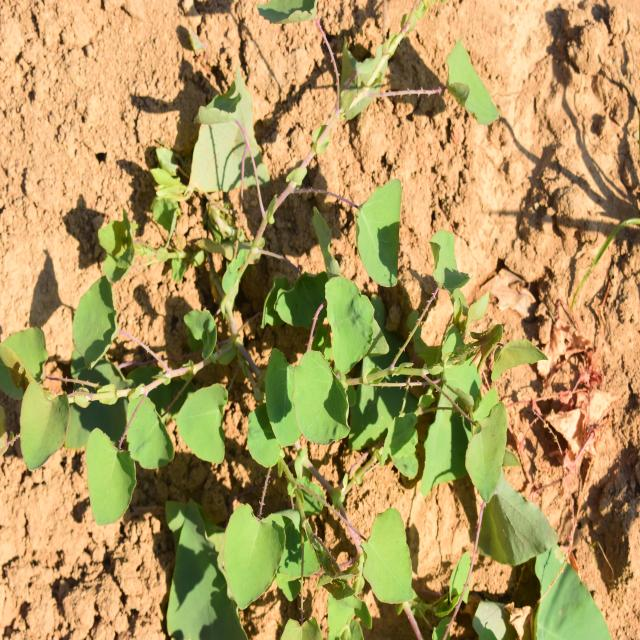Asiatic_Smartweed: (270, 172, 527, 500), (0, 258, 264, 517), (213, 469, 420, 636)
